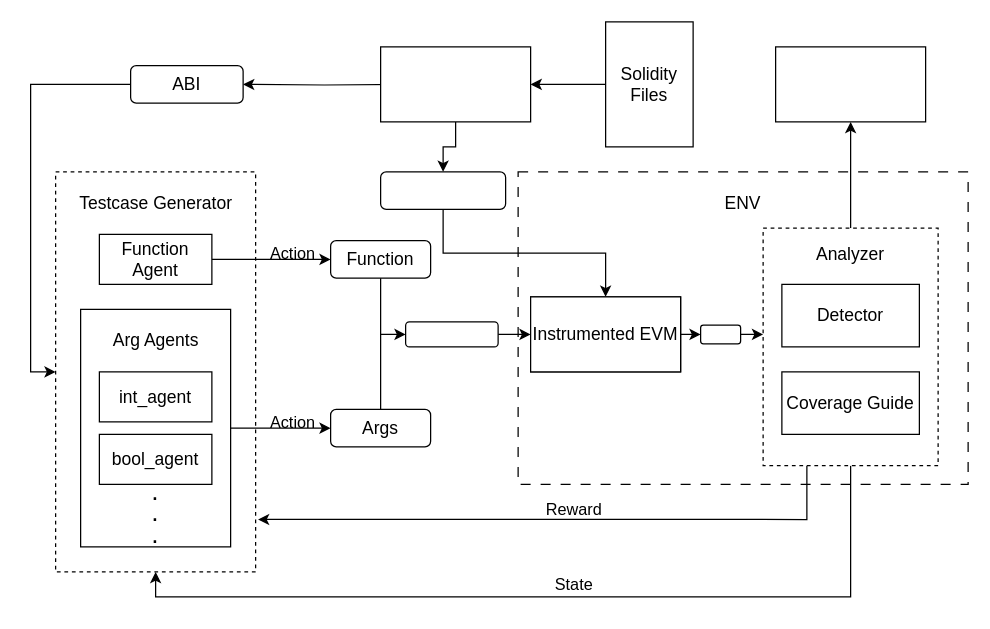
Image size: 990x629. Some labels were removed from this diagram. Here are the shapes that lost their labels. From the top down, the centre of each, then its label:
the point at 455,84: Solidity Compiler
the point at 850,84: Bug
the point at 442,190: Bytecode
the point at 451,334: transaction
the point at 720,334: Log
